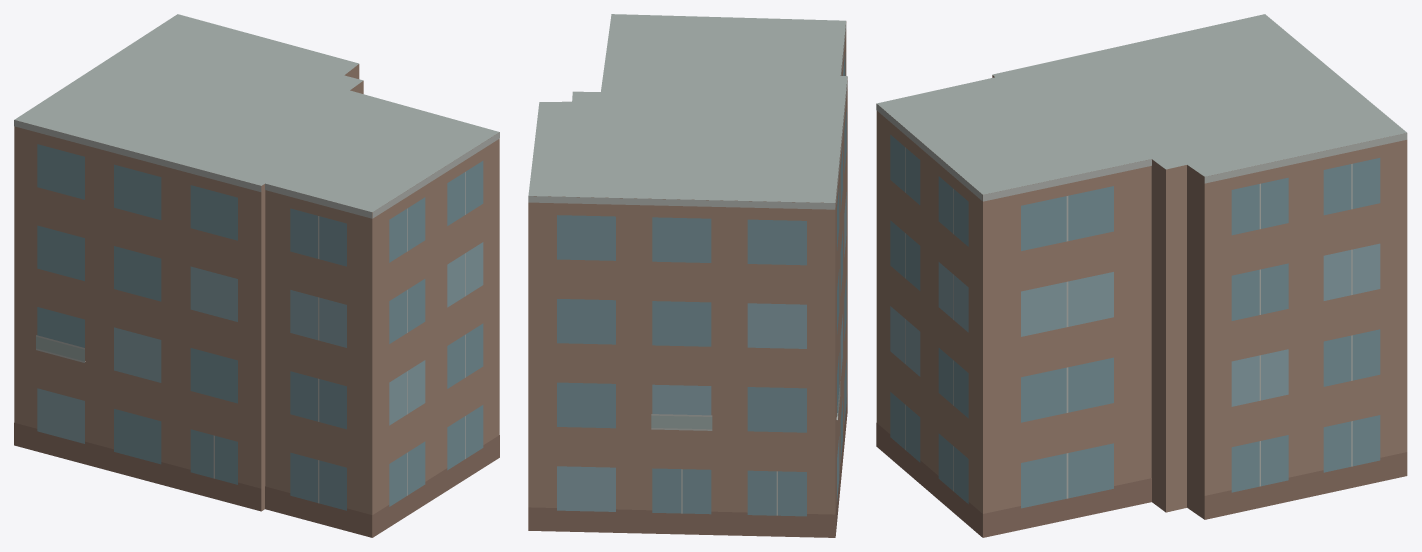
Rendered from survey-upis-32551135.glb.
3 renders of one model, left to right at view 1: azimuth 30°, elevation 25°; view 2: azimuth 150°, elevation 25°; view 3: azimuth 270°, elevation 25°, orthographic. The views are drawn at different scales.
Visible parts, largest first — view 1: survey-upis-32551135.tmp; view 2: survey-upis-32551135.tmp; view 3: survey-upis-32551135.tmp.
Part boxes in pixels (x1,y1,x2,y2): survey-upis-32551135.tmp: (14,14,499,537); survey-upis-32551135.tmp: (528,14,847,537); survey-upis-32551135.tmp: (876,14,1407,537).
Bounding box in the file's own units: 13.91 × 12.3 × 17.26.
